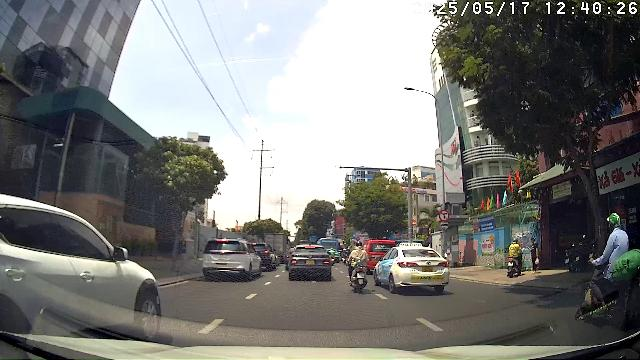137-cam-re-trai-va-re-phai: (439, 209, 449, 221)
